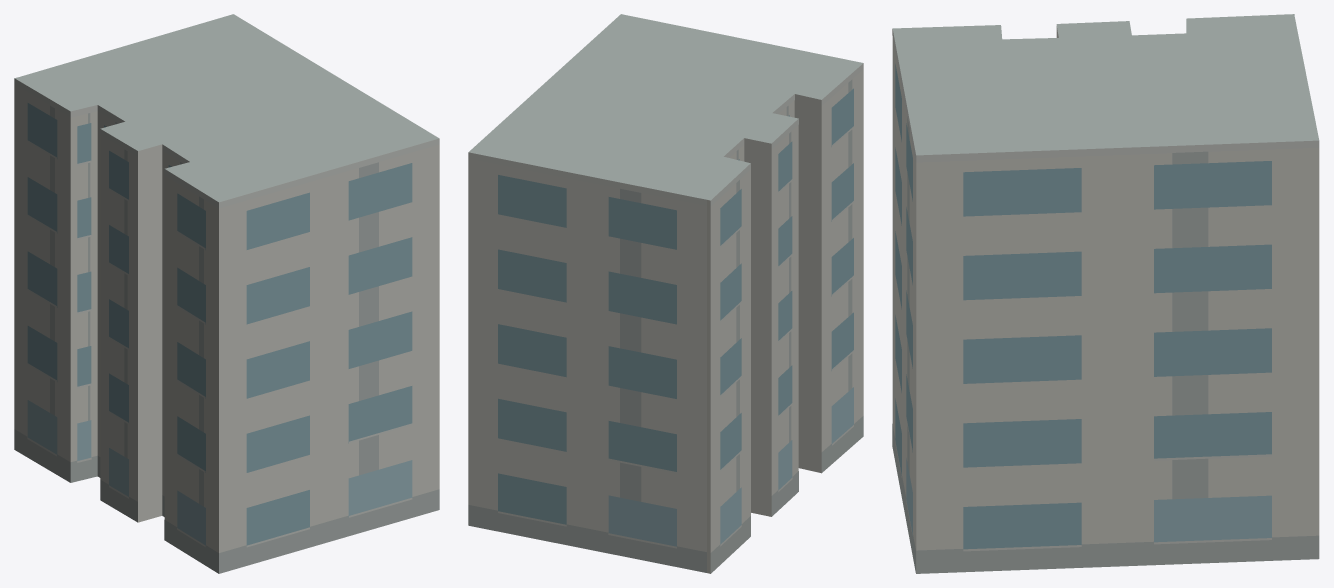
The model's file is survey-upis-32962090.glb.
3 views of the same model, side by side, from view 1: azimuth 30°, elevation 25°; view 2: azimuth 150°, elevation 25°; view 3: azimuth 270°, elevation 25° (orthographic). The views are drawn at different scales.
Parts seen in each view (by area): view 1: survey-upis-32962090.tmp; view 2: survey-upis-32962090.tmp; view 3: survey-upis-32962090.tmp.
Boxes of the visible parts, box(x1,y1,x2,y2) form: survey-upis-32962090.tmp: box(14, 14, 439, 573); survey-upis-32962090.tmp: box(468, 14, 863, 573); survey-upis-32962090.tmp: box(892, 14, 1319, 573).
Bounding box in the file's own units: 10.59 × 14.6 × 13.5.
